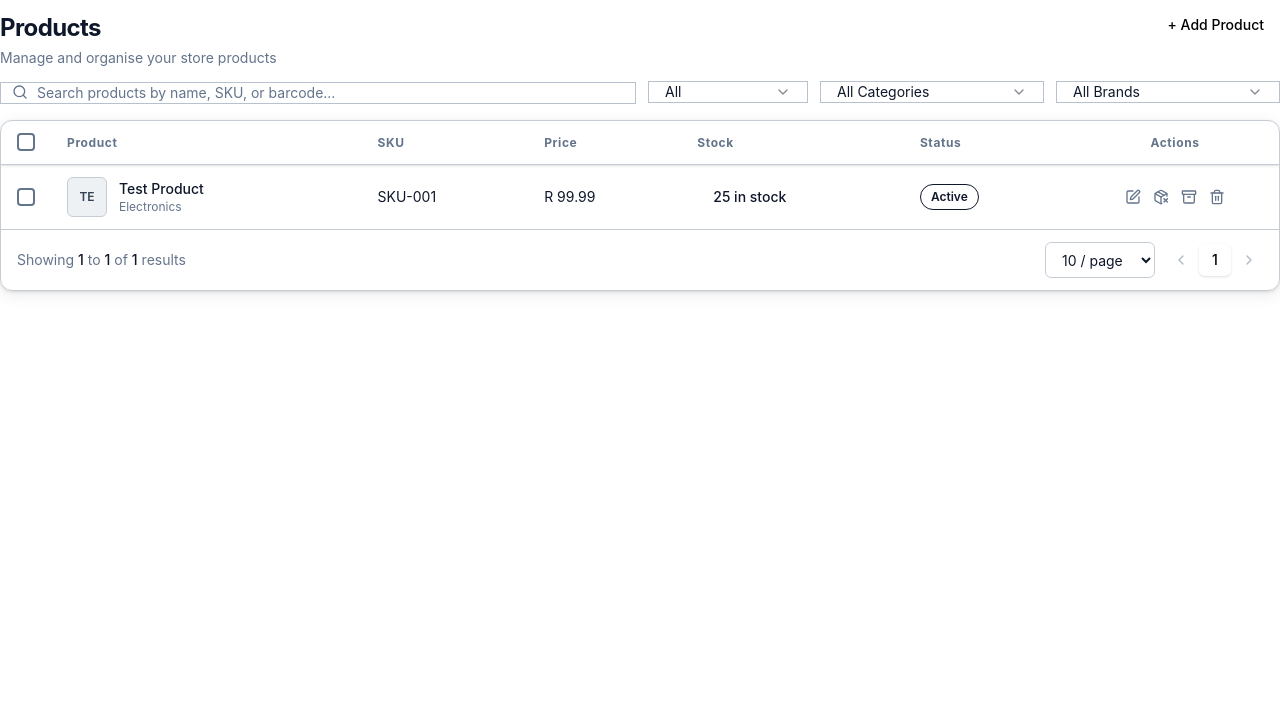
it: ProductListPage › row double-click › double-clicking the Delete action opens the dialog instead of navigating
This screenshot has width=1280, height=720.
Double-click the button with test id "action-delete" at (1217, 197), box [1205, 185, 1229, 209]
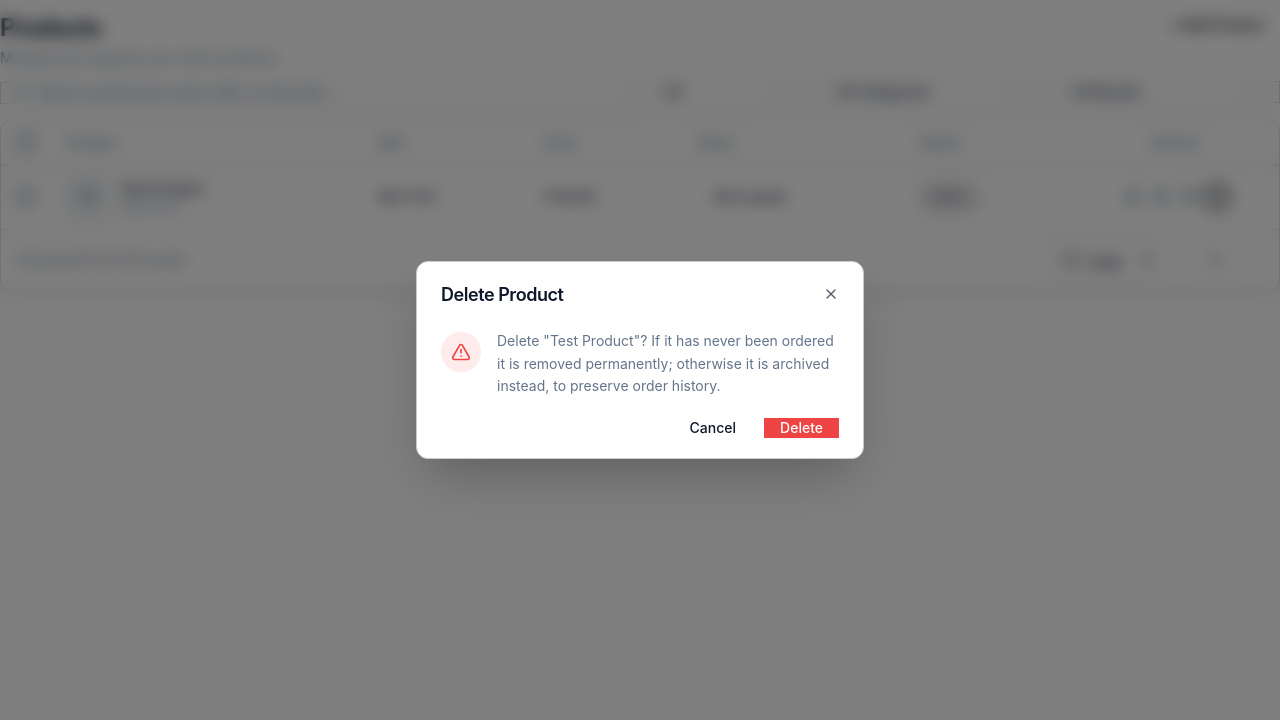
Expected: the dialog is shown, [416, 261, 864, 459]
